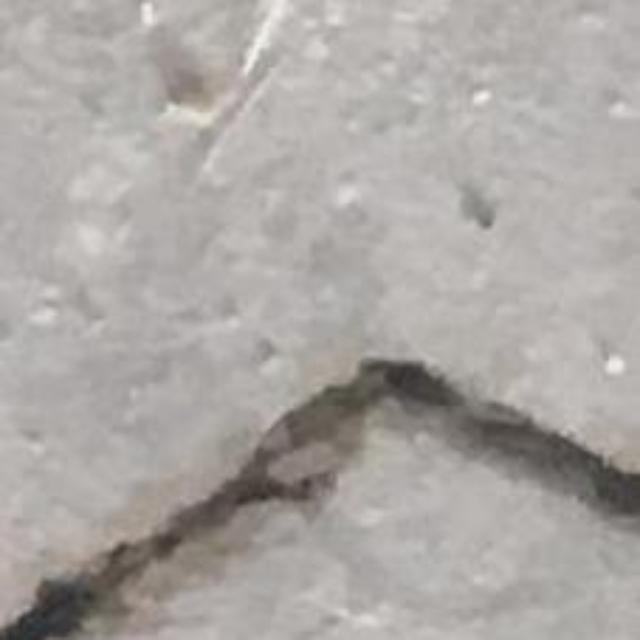crack: (0, 359, 639, 639)
peeling plaster: (147, 0, 276, 132)
